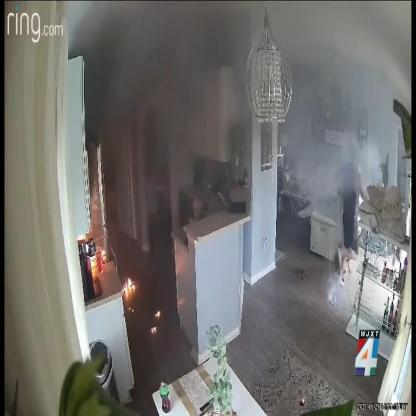fire: (123, 277, 135, 294), (155, 311, 160, 317), (151, 327, 156, 333)
